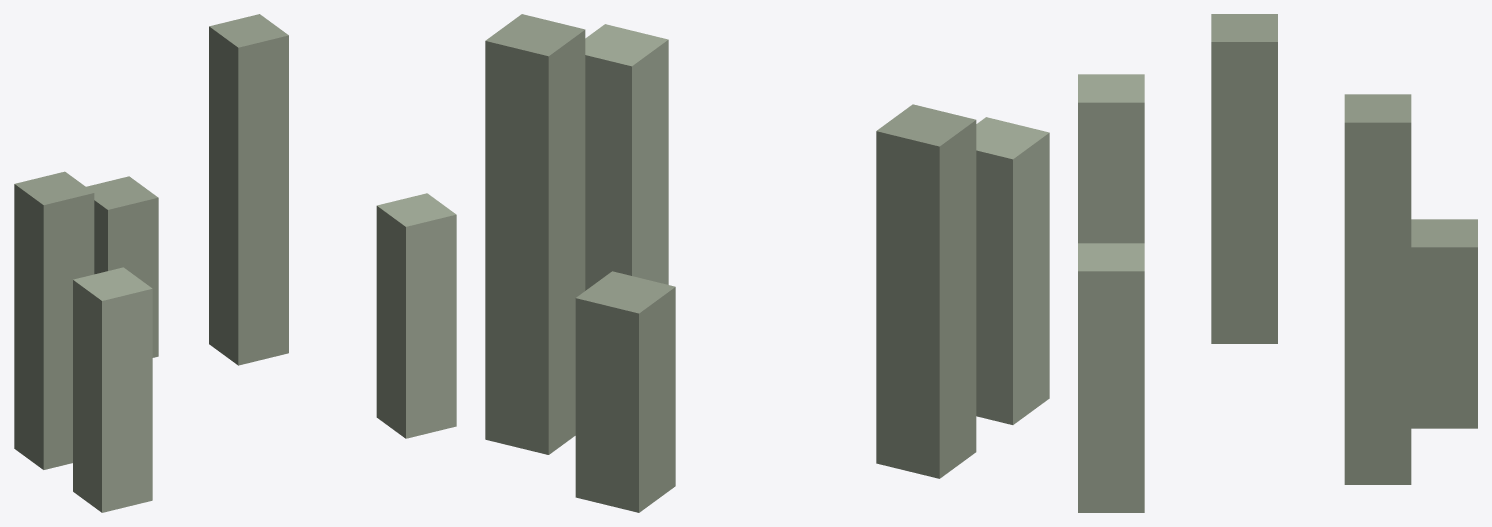
Rendered from liquen_roca_04.glb.
The picture shows the model from 3 angles, left to right: view 1: azimuth 30°, elevation 25°; view 2: azimuth 150°, elevation 25°; view 3: azimuth 270°, elevation 25°; orthographic projection. The views are drawn at different scales.
Visible parts, largest first — view 1: liquen_roca_04; view 2: liquen_roca_04; view 3: liquen_roca_04.
Part boxes in pixels (x1=…): liquen_roca_04: x1=14, y1=14, x2=456, y2=512; liquen_roca_04: x1=485, y1=14, x2=1049, y2=512; liquen_roca_04: x1=1078, y1=14, x2=1477, y2=512.
Size of the model in its own units: 0.7 by 0.6 by 0.6.
